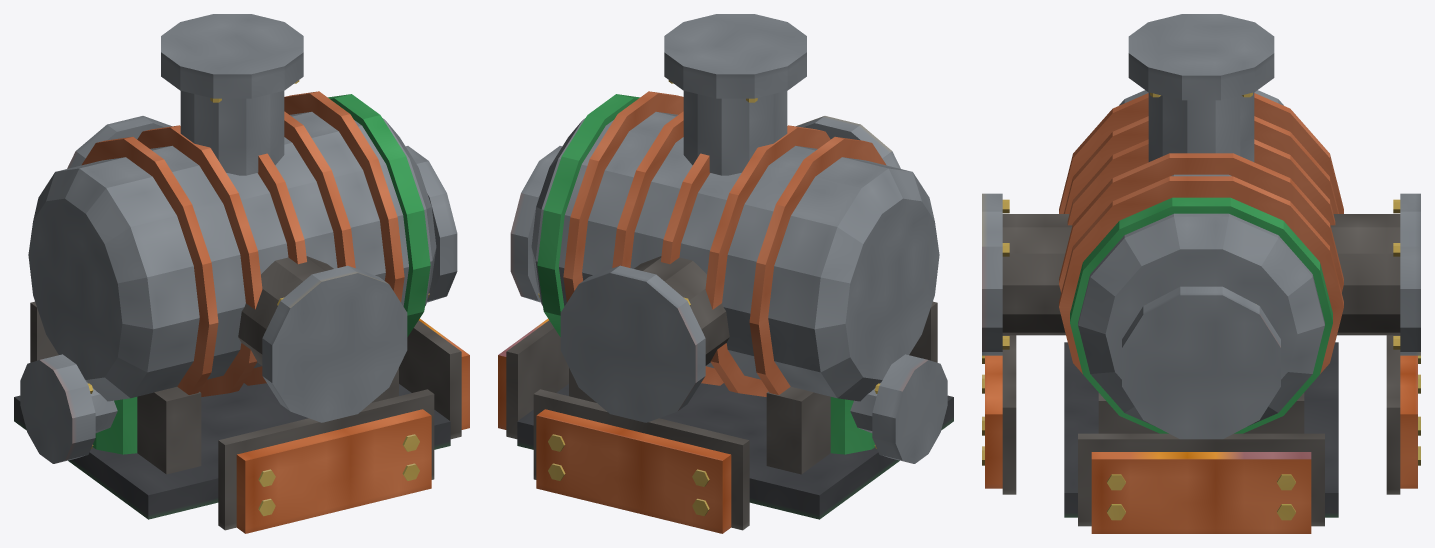
The model's file is condenser50v.obj.
3 renders of one model, left to right at view 1: azimuth 30°, elevation 25°; view 2: azimuth 150°, elevation 25°; view 3: azimuth 270°, elevation 25°, orthographic. The views are drawn at different scales.
Parts seen in each view (by area): view 1: main, duct_right, duct_back, duct_left; view 2: main, duct_left, duct_back, duct_right; view 3: main, duct_back, duct_right, duct_left.
Part boxes in pixels (bbox=[...]): main: bbox=[14, 14, 469, 533]; duct_right: bbox=[238, 256, 407, 422]; duct_back: bbox=[405, 146, 457, 302]; duct_left: bbox=[67, 116, 171, 168]; main: bbox=[498, 14, 953, 533]; duct_left: bbox=[560, 256, 729, 422]; duct_back: bbox=[510, 146, 562, 302]; duct_right: bbox=[796, 116, 900, 168]; main: bbox=[982, 14, 1420, 533]; duct_back: bbox=[1122, 286, 1280, 439]; duct_right: bbox=[982, 193, 1072, 355]; duct_left: bbox=[1330, 193, 1420, 355].
Size of the model in its own units: 1 by 1 by 1.
1 material, 1 textured.
